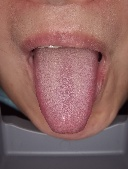tongue: (32, 50, 99, 135)
